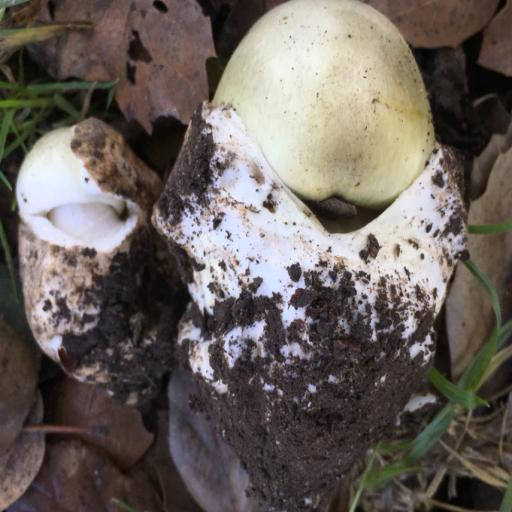Death Cap: (126, 0, 490, 512), (0, 102, 177, 282)
